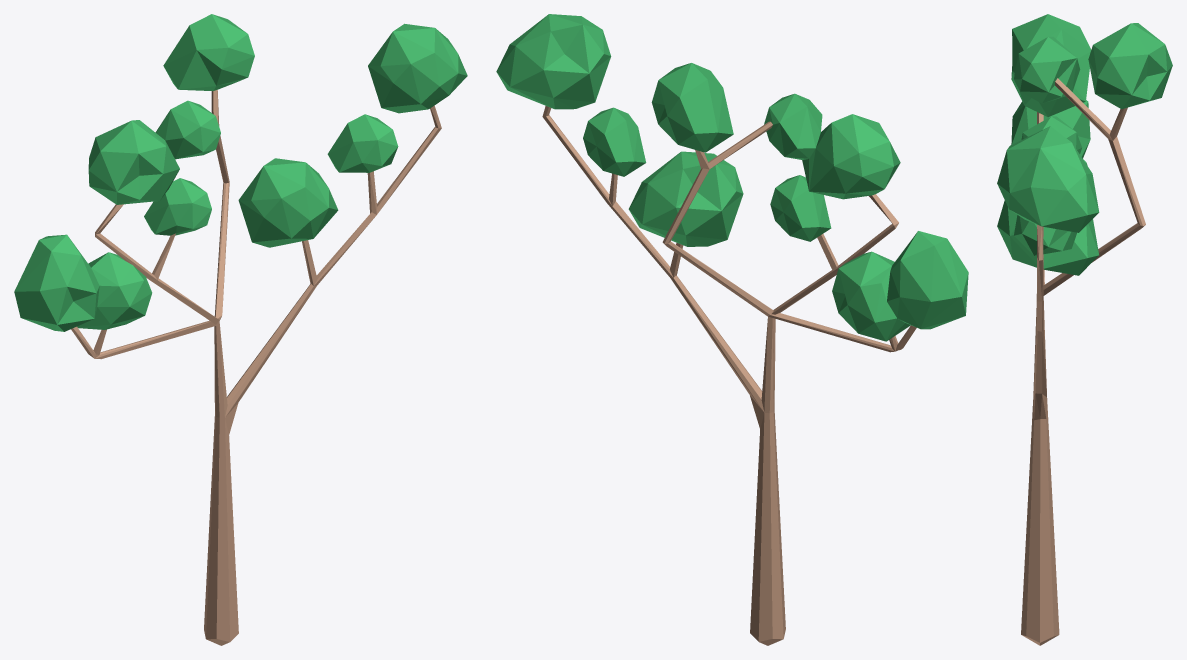
The model's file is tree45.fbx.
The picture shows the model from 3 angles, left to right: view 1: azimuth 30°, elevation 25°; view 2: azimuth 150°, elevation 25°; view 3: azimuth 270°, elevation 25°; orthographic projection. The views are drawn at different scales.
Parts seen in each view (by area): view 1: treetype45; view 2: treetype45; view 3: treetype45.
Boxes of the visible parts, x1,y1,x2,y2 form: treetype45: (14,14,467,645); treetype45: (496,14,968,645); treetype45: (997,14,1172,645).
Size of the model in its own units: 190 by 242 by 60.19.
